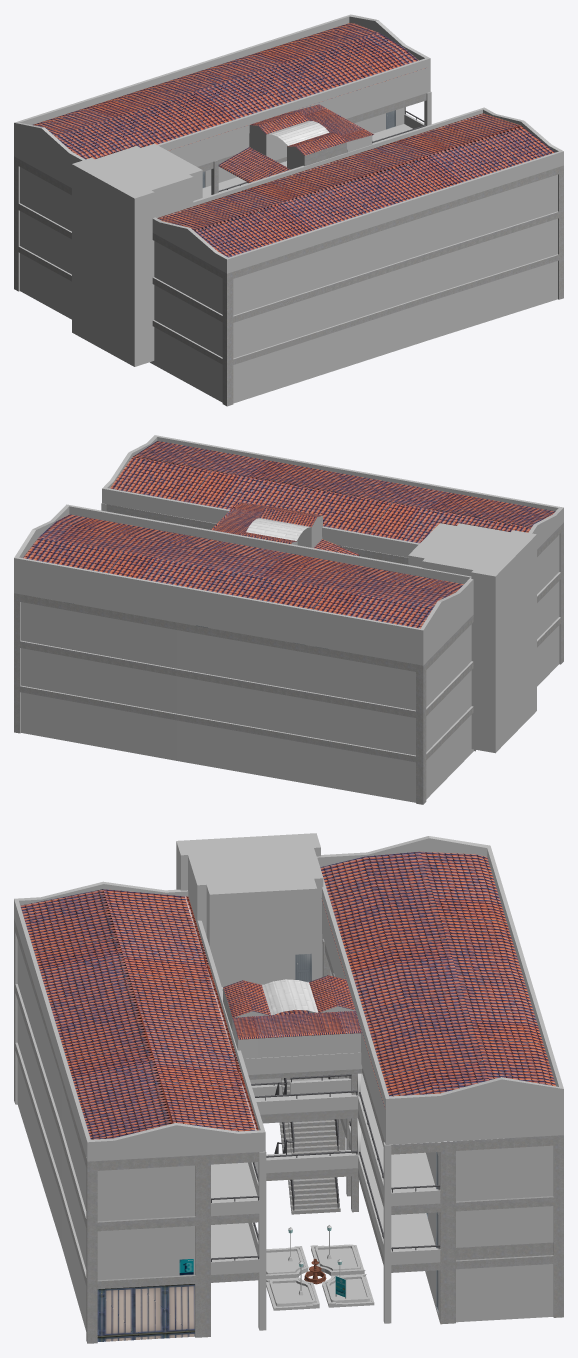
Rendered from BLOQUE_13_V4.fbx.
The picture shows the model from 3 angles, top to bottom: view 1: azimuth 30°, elevation 25°; view 2: azimuth 150°, elevation 25°; view 3: azimuth 270°, elevation 25°; orthographic projection. The views are drawn at different scales.
Visible parts, largest first — view 1: LADRILLO_ROJO_Y_COLUMNAS, TECHO_IZQ_CUARTO_PISO, TECHO_DER_CUARTO_PISO, LADRILLO_ROJO, LADRILLO_ROJO_CUARTO_PISO, LADRILLO_ROJO_CUARTO_PISO_IZQ, CUARTO_PISO_LADRILLO_ROJO, CUARTO_PISO_LADRILLO_ROJO1, TECHO_PEQUEÑO_TERCER_PISO, TECHO_CUARTO_PISO; view 2: LADRILLO_ROJO_Y_COLUMNAS, LADRILLO_ROJO_CUARTO_PISO, TECHO_DER_CUARTO_PISO, TECHO_IZQ_CUARTO_PISO, LADRILLO_ROJO, LADRILLO_ROJO_CUARTO_PISO_IZQ, CUARTO_PISO_LADRILLO_ROJO, CUARTO_PISO_LADRILLO_ROJO1, TECHO_CUARTO_PISO; view 3: LADRILLO_ROJO_Y_COLUMNAS, TECHO_IZQ_CUARTO_PISO, TECHO_DER_CUARTO_PISO, LADRILLO_ROJO_CUARTO_PISO, LADRILLO_ROJO, LADRILLO_ROJO_CUARTO_PISO_IZQ, CUARTO_PISO_LADRILLO_ROJO1, CUARTO_PISO_LADRILLO_ROJO, BLOQUE_13_VARANDALES, ESCALERAS_CONCRETO1, ESCALERAS_CONCRETO, COLUMNA_LADRILLO_ROJO1 (+7 smaller).
Boxes of the visible parts, x1,y1,x2,y2 form: LADRILLO_ROJO_Y_COLUMNAS: [14, 93, 563, 406]; TECHO_IZQ_CUARTO_PISO: [157, 113, 555, 257]; TECHO_DER_CUARTO_PISO: [33, 23, 426, 159]; LADRILLO_ROJO: [72, 143, 202, 366]; LADRILLO_ROJO_CUARTO_PISO: [14, 14, 430, 187]; LADRILLO_ROJO_CUARTO_PISO_IZQ: [152, 107, 563, 273]; CUARTO_PISO_LADRILLO_ROJO: [249, 111, 346, 169]; CUARTO_PISO_LADRILLO_ROJO1: [294, 104, 373, 152]; TECHO_PEQUEÑO_TERCER_PISO: [218, 147, 290, 182]; TECHO_CUARTO_PISO: [267, 120, 329, 145]; LADRILLO_ROJO_Y_COLUMNAS: [14, 504, 563, 804]; LADRILLO_ROJO_CUARTO_PISO: [14, 504, 473, 665]; TECHO_DER_CUARTO_PISO: [23, 514, 463, 628]; TECHO_IZQ_CUARTO_PISO: [110, 441, 555, 543]; LADRILLO_ROJO: [408, 523, 536, 753]; LADRILLO_ROJO_CUARTO_PISO_IZQ: [102, 435, 563, 557]; CUARTO_PISO_LADRILLO_ROJO: [239, 506, 322, 547]; CUARTO_PISO_LADRILLO_ROJO1: [211, 502, 270, 534]; TECHO_CUARTO_PISO: [246, 518, 310, 540]; LADRILLO_ROJO_Y_COLUMNAS: [14, 919, 563, 1343]; TECHO_IZQ_CUARTO_PISO: [20, 889, 258, 1139]; TECHO_DER_CUARTO_PISO: [320, 851, 555, 1108]; LADRILLO_ROJO_CUARTO_PISO: [317, 836, 563, 1144]; LADRILLO_ROJO: [176, 833, 323, 959]; LADRILLO_ROJO_CUARTO_PISO_IZQ: [14, 881, 265, 1161]; CUARTO_PISO_LADRILLO_ROJO1: [232, 1011, 362, 1074]; CUARTO_PISO_LADRILLO_ROJO: [223, 975, 362, 1079]; BLOQUE_13_VARANDALES: [211, 989, 440, 1261]; ESCALERAS_CONCRETO1: [279, 1122, 340, 1214]; ESCALERAS_CONCRETO: [281, 1077, 340, 1154]; COLUMNA_LADRILLO_ROJO1: [383, 1142, 391, 1323].
Bounding box in the file's own units: 574 × 236 × 487.
